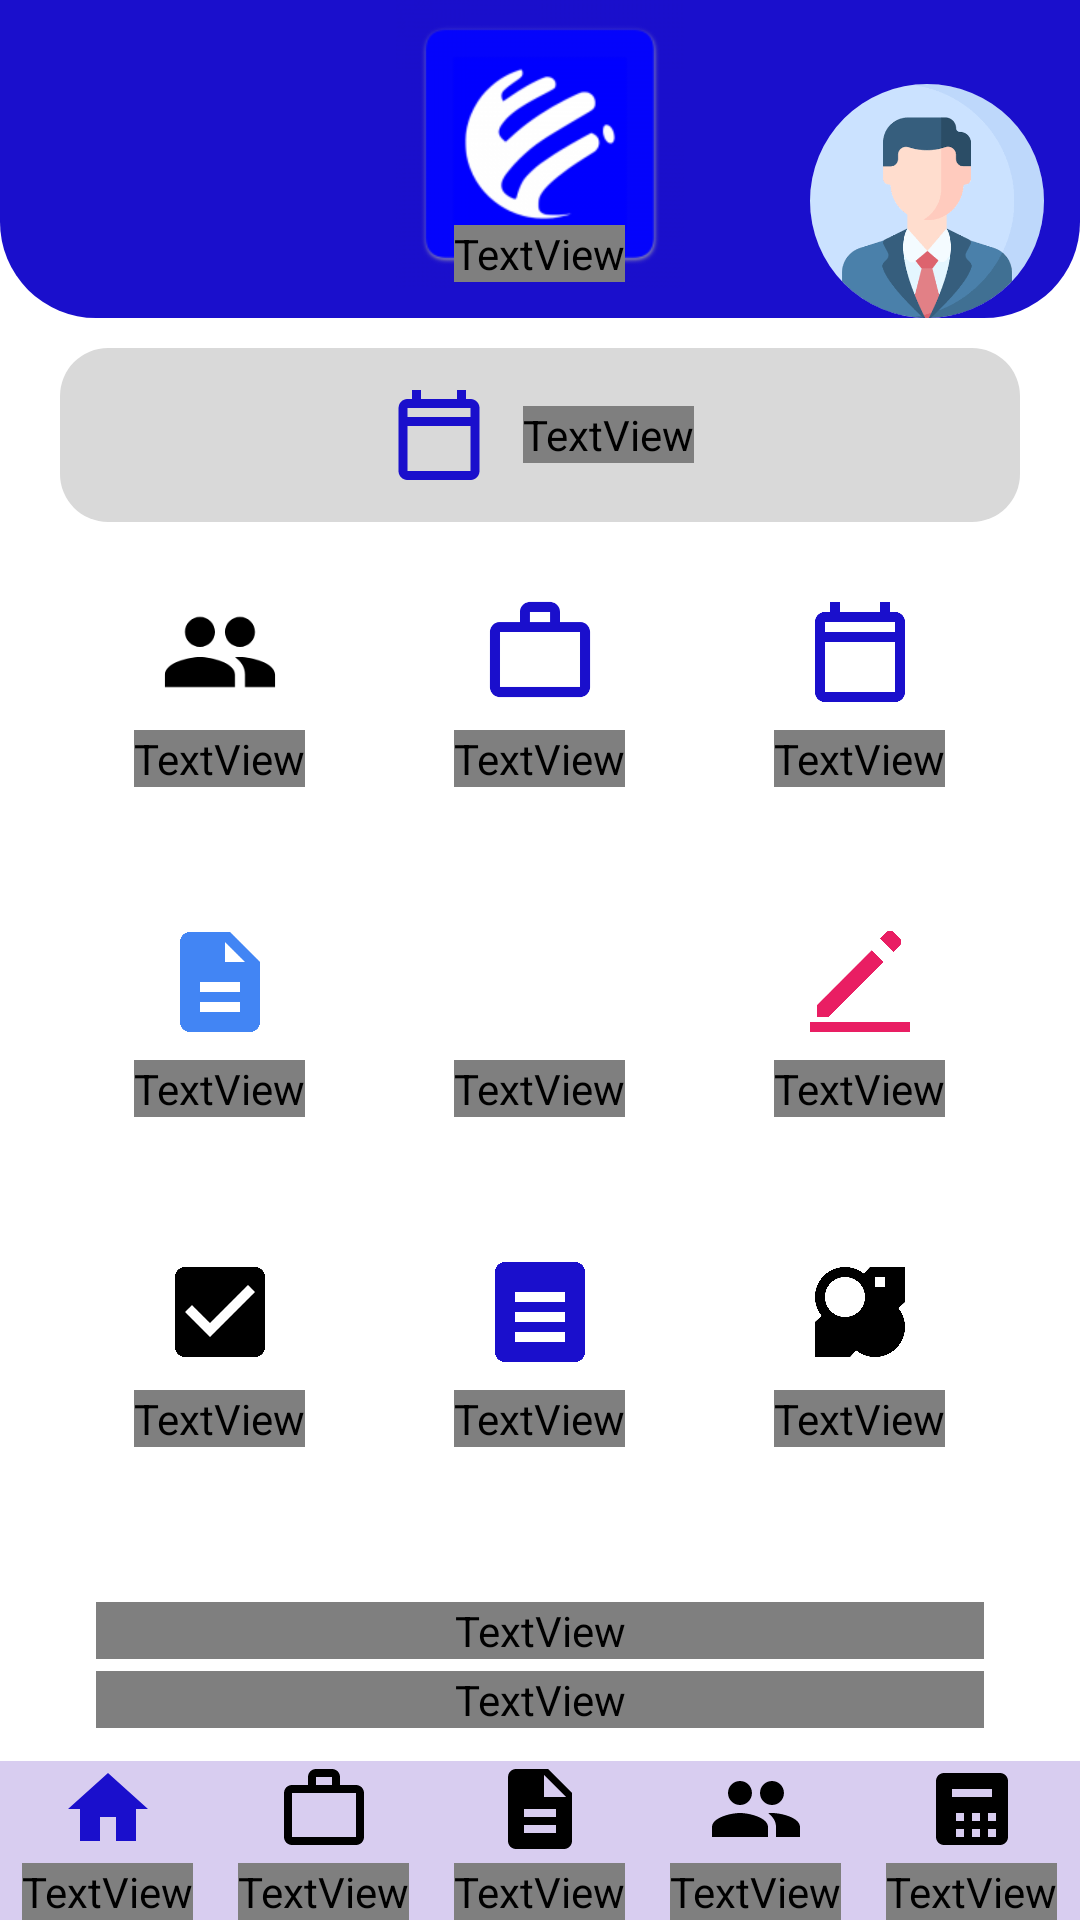

Locate icon controls on the screen. Image size 1080×1920, boxes as BBox(x1, y1, x2, y2).
Profile photo: BBox(810, 84, 1044, 318)
